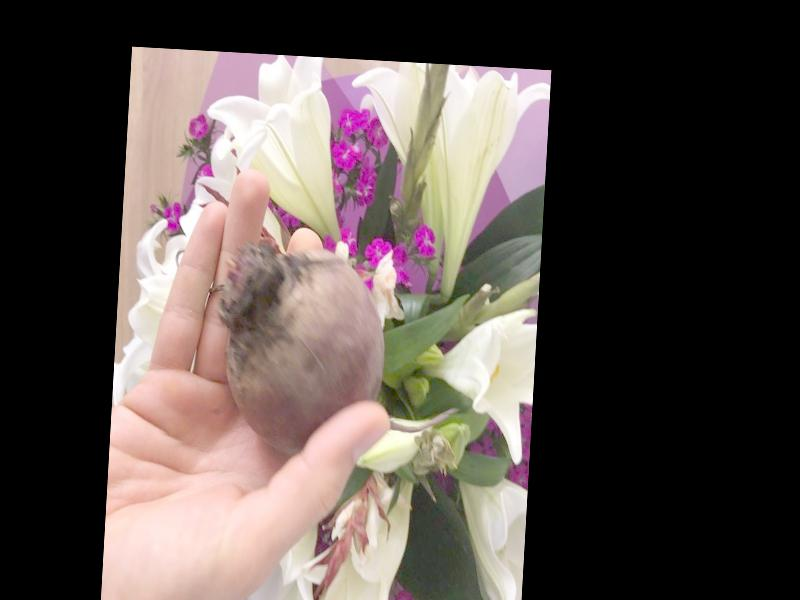Beet: (217, 240, 466, 460)
